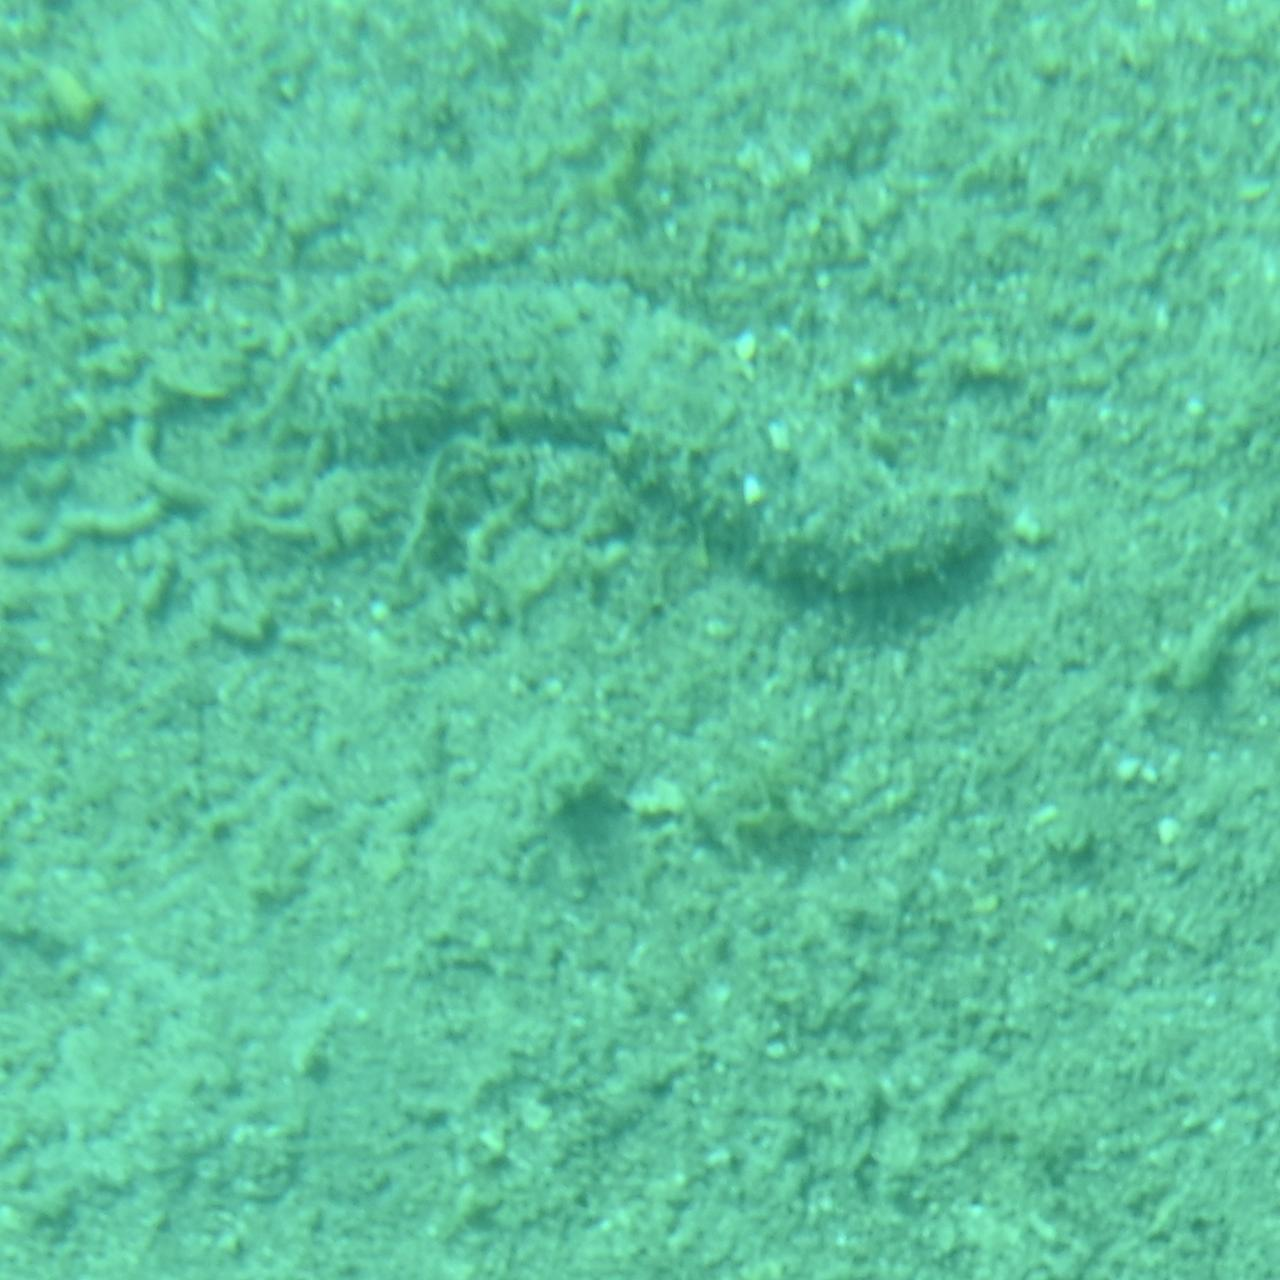Holothuria tubulosa: (241, 246, 1039, 646)
